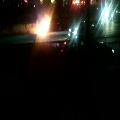fire: (29, 12, 51, 36)
